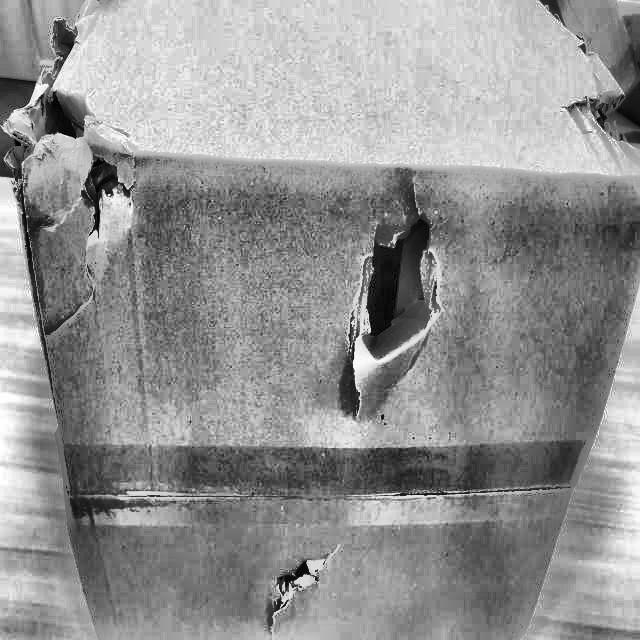box: (7, 0, 640, 640)
hole: (0, 14, 136, 259), (343, 203, 457, 425), (566, 66, 640, 178), (264, 546, 344, 634)
